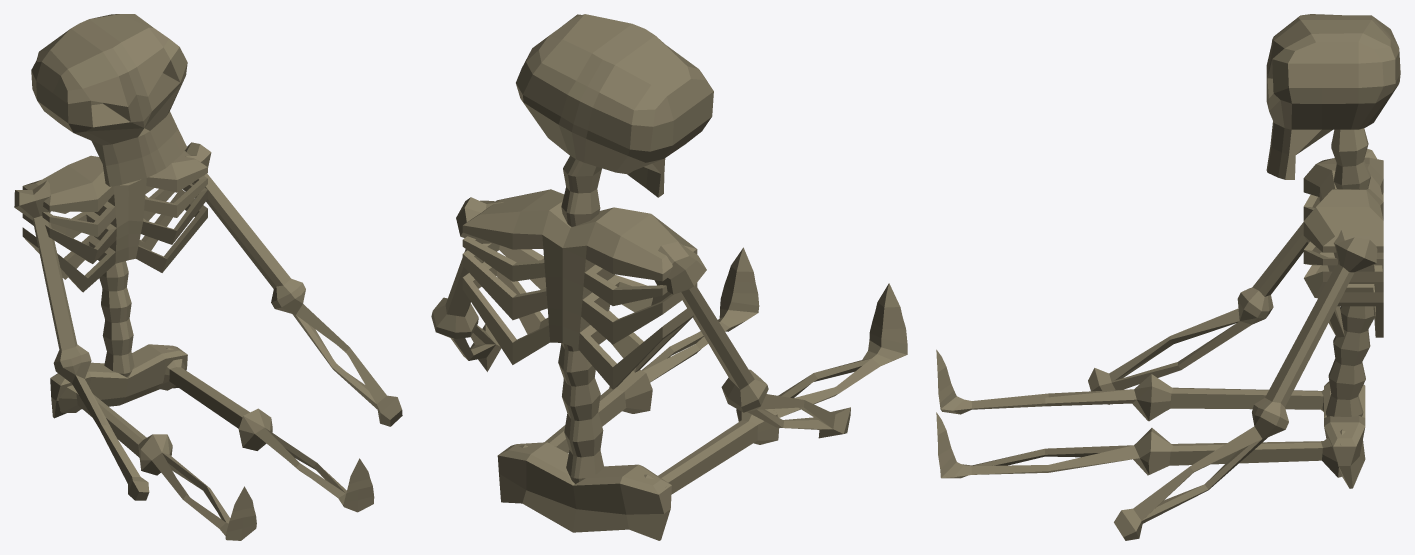
Rendered from SkeletonSit.fbx.
3 views of the same model, side by side, from view 1: azimuth 30°, elevation 25°; view 2: azimuth 150°, elevation 25°; view 3: azimuth 270°, elevation 25° (orthographic). The views are drawn at different scales.
Visible parts, largest first — view 1: Cube.001; view 2: Cube.001; view 3: Cube.001.
Boxes of the visible parts, <box> form: Cube.001: <box>14,14,402,540</box>; Cube.001: <box>431,14,907,540</box>; Cube.001: <box>936,14,1400,540</box>.
Bounding box in the file's own units: 0.7595 × 0.9857 × 0.9566.
